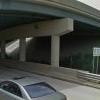Bridge: (7, 4, 94, 64)
